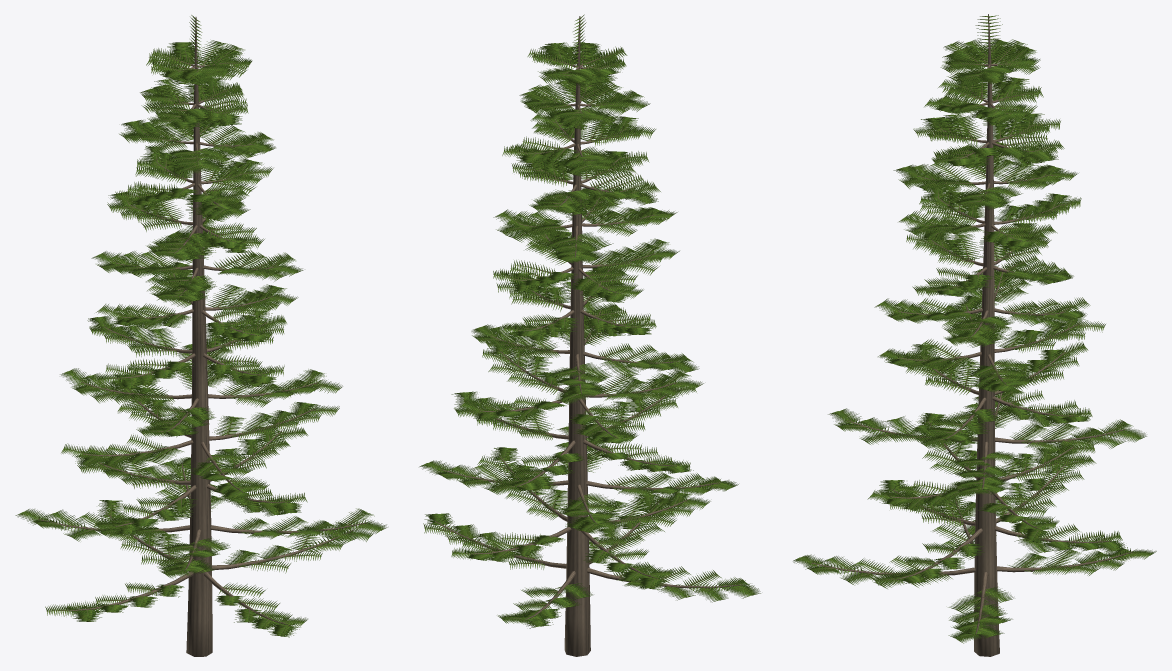
Rendered from fir.glb.
3 renders of one model, left to right at view 1: azimuth 30°, elevation 25°; view 2: azimuth 150°, elevation 25°; view 3: azimuth 270°, elevation 25°, orthographic.
Visible parts, largest first — view 1: Foliage, Bark; view 2: Foliage, Bark; view 3: Foliage, Bark.
Part boxes in pixels (bbox=[...]): Foliage: bbox=[15, 15, 387, 637]; Bark: bbox=[32, 17, 367, 656]; Foliage: bbox=[419, 14, 760, 628]; Bark: bbox=[424, 16, 751, 656]; Foliage: bbox=[793, 15, 1156, 643]; Bark: bbox=[811, 14, 1150, 656].
Size of the model in its own units: 1.35 by 2.45 by 1.28.
2 materials, 2 textured.
